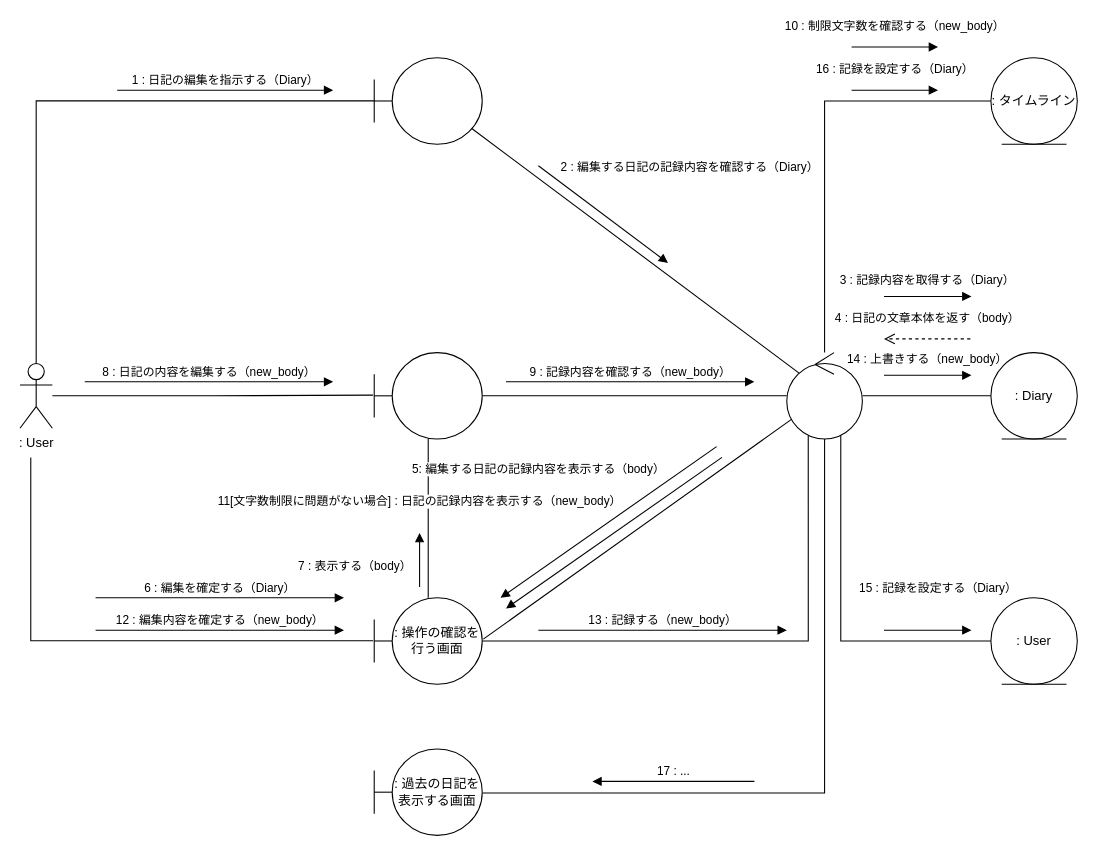
This 1096x854 diagram has some shape labels left out. The box of each missing label's shape, as (x1, y1, x2, y2) in pixels:
: 個別の日記を表示する画面: (373, 57, 482, 144)
: 日記 記録管理: (786, 352, 862, 439)
: 日記を編集 する画面: (373, 352, 482, 439)
